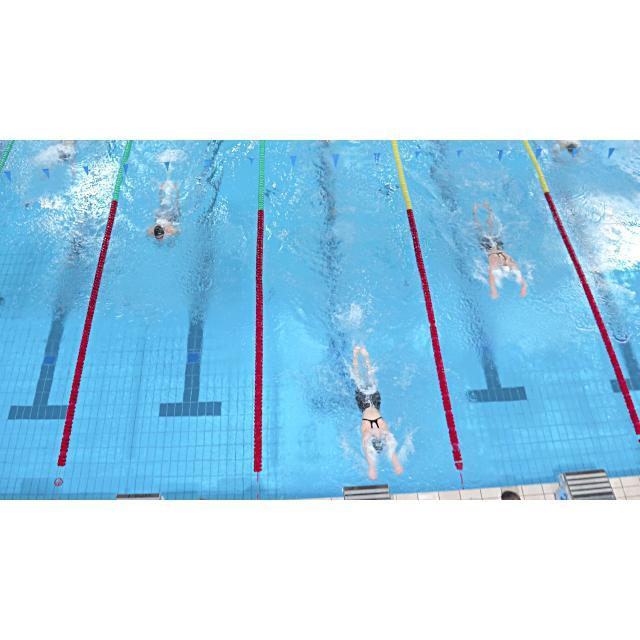human: (349, 344, 404, 477), (474, 202, 530, 303), (143, 176, 185, 245)
